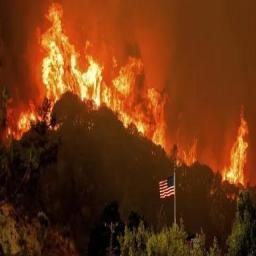Large fire: (0, 1, 256, 203)
